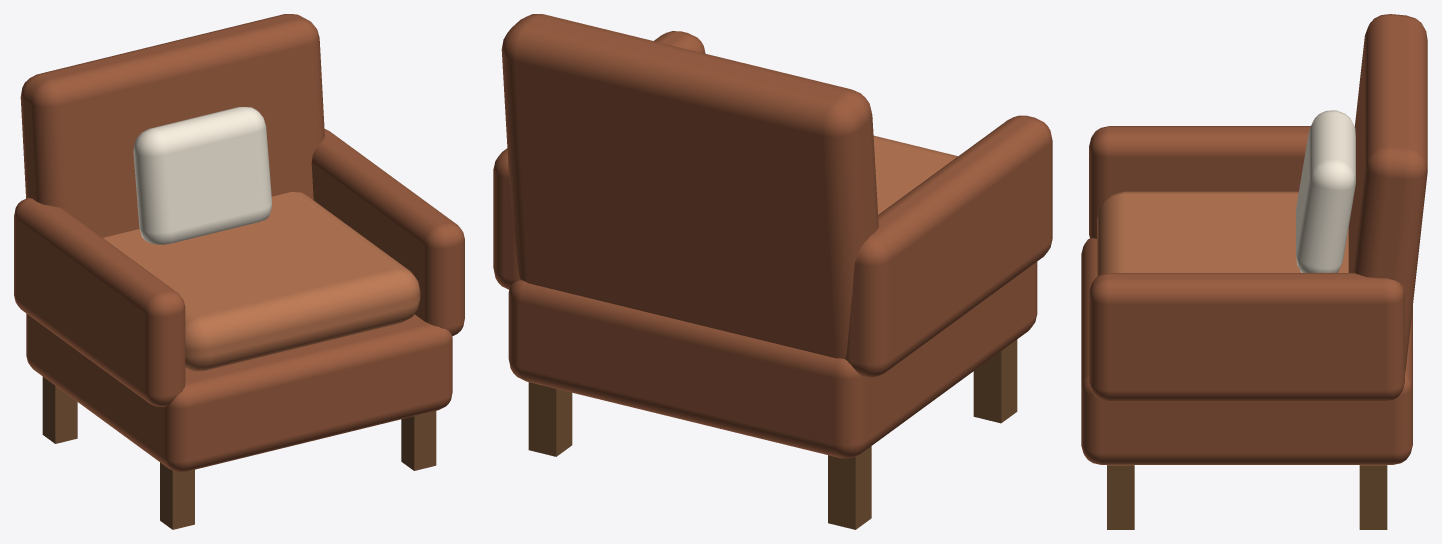
The model's file is armchair-ochre-01.glb.
3 renders of one model, left to right at view 1: azimuth 30°, elevation 25°; view 2: azimuth 150°, elevation 25°; view 3: azimuth 270°, elevation 25°, orthographic. The views are drawn at different scales.
Parts seen in each view (by area): view 1: back, seat-base, cushion, arm-left, pillow, arm-right, leg--0.38-0.32, leg-0.38-0.32, leg--0.38--0.32; view 2: back, seat-base, arm-left, cushion, arm-right, leg--0.38--0.32, leg-0.38--0.32, leg--0.38-0.32; view 3: arm-right, seat-base, back, cushion, arm-left, pillow, leg-0.38--0.32, leg-0.38-0.32.
Boxes of the visible parts, x1,y1,x2,y2 form: back: (20, 14, 324, 237); seat-base: (26, 313, 452, 472); cushion: (103, 192, 420, 371); arm-left: (14, 197, 185, 406); pillow: (133, 107, 272, 244); arm-right: (311, 129, 464, 336); leg--0.38-0.32: (160, 462, 194, 529); leg-0.38-0.32: (401, 411, 436, 470); leg--0.38--0.32: (42, 376, 77, 443); back: (501, 14, 878, 358); seat-base: (508, 262, 1037, 458); arm-left: (845, 115, 1052, 377); cushion: (873, 135, 957, 214); arm-right: (493, 31, 705, 289); leg--0.38--0.32: (828, 446, 871, 529); leg-0.38--0.32: (528, 382, 572, 456); leg--0.38-0.32: (973, 339, 1017, 423); arm-right: (1089, 273, 1404, 401); seat-base: (1081, 238, 1412, 464); back: (1348, 14, 1427, 371); cushion: (1097, 191, 1348, 276); arm-left: (1089, 126, 1310, 238); pillow: (1296, 110, 1355, 272); leg-0.38--0.32: (1359, 465, 1387, 529); leg-0.38-0.32: (1107, 465, 1134, 529).
Size of the model in its own units: 1 by 1.06 by 0.8776.
